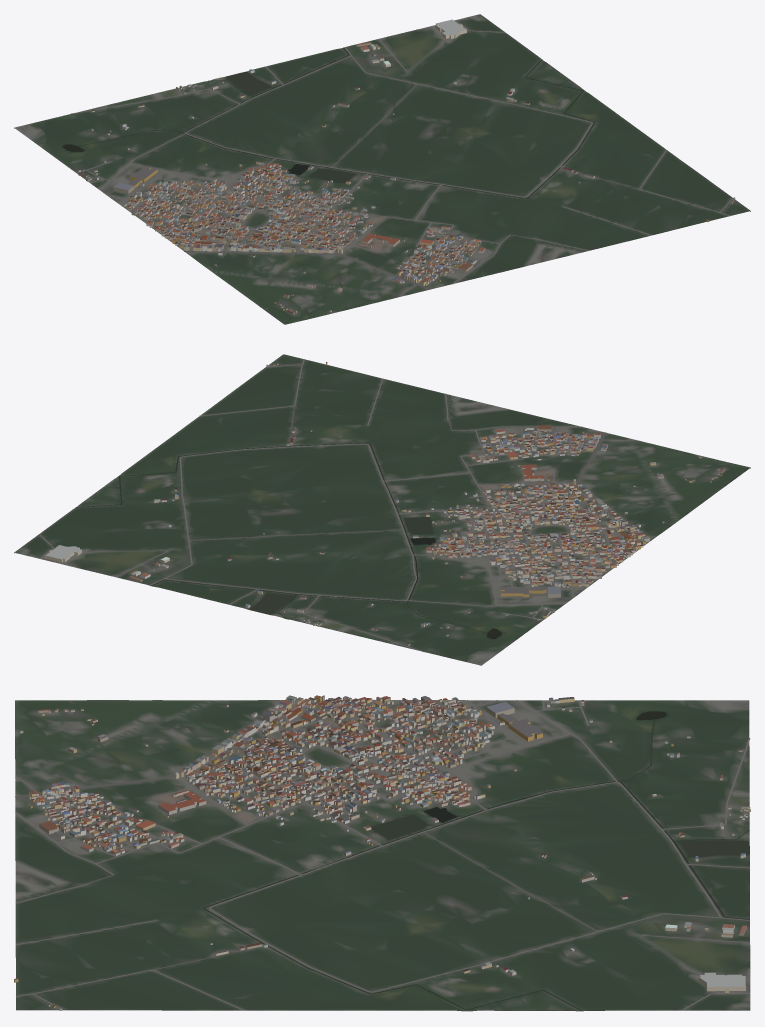
3 views of the same model, one above another, from view 1: azimuth 30°, elevation 25°; view 2: azimuth 150°, elevation 25°; view 3: azimuth 270°, elevation 25° (orthographic). The views are drawn at different scales.
Visible parts, largest first — view 1: ground, buildings, roads, water; view 2: ground, buildings, roads, water; view 3: ground, buildings, roads, water.
Boxes of the visible parts, bbox=[...] form: ground: bbox=[14, 14, 750, 324]; buildings: bbox=[77, 19, 735, 314]; roads: bbox=[22, 20, 733, 309]; water: bbox=[62, 47, 595, 198]; ground: bbox=[14, 354, 750, 665]; buildings: bbox=[45, 362, 725, 645]; roads: bbox=[39, 359, 729, 663]; water: bbox=[75, 442, 501, 638]; ground: bbox=[15, 700, 750, 1011]; buildings: bbox=[14, 695, 750, 1010]; roads: bbox=[15, 699, 750, 1010]; water: bbox=[203, 711, 749, 1010].
Size of the model in its own units: 1408 by 18.22 by 1407.
